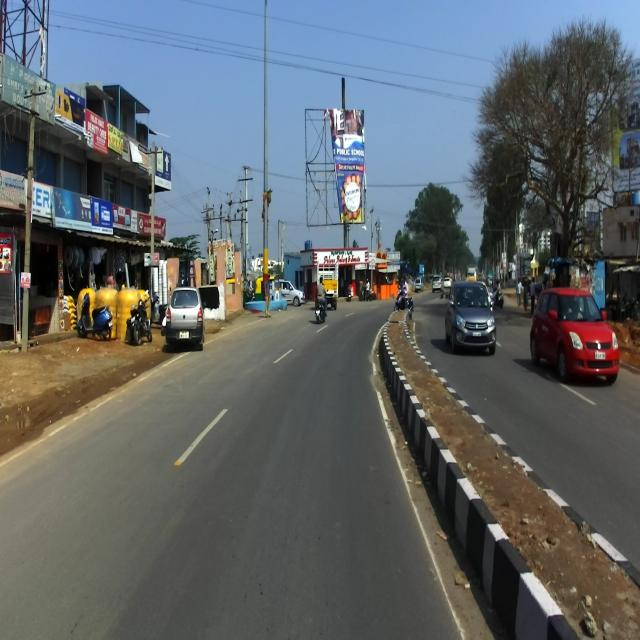Car_Maruti-Suzuki: (529, 286, 621, 385), (444, 274, 497, 354), (165, 281, 207, 350)
